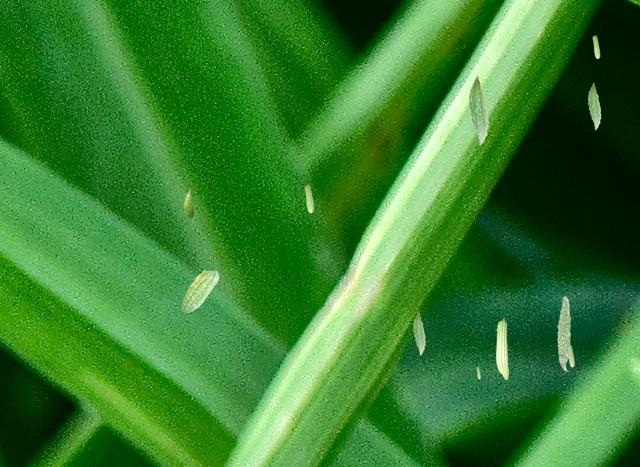ampalaya: (181, 269, 219, 313), (468, 75, 489, 145), (556, 295, 571, 371), (495, 317, 509, 380), (587, 82, 601, 130), (413, 311, 425, 356), (183, 188, 194, 219), (304, 184, 314, 213), (592, 35, 600, 59), (569, 346, 575, 367), (476, 366, 481, 379)
